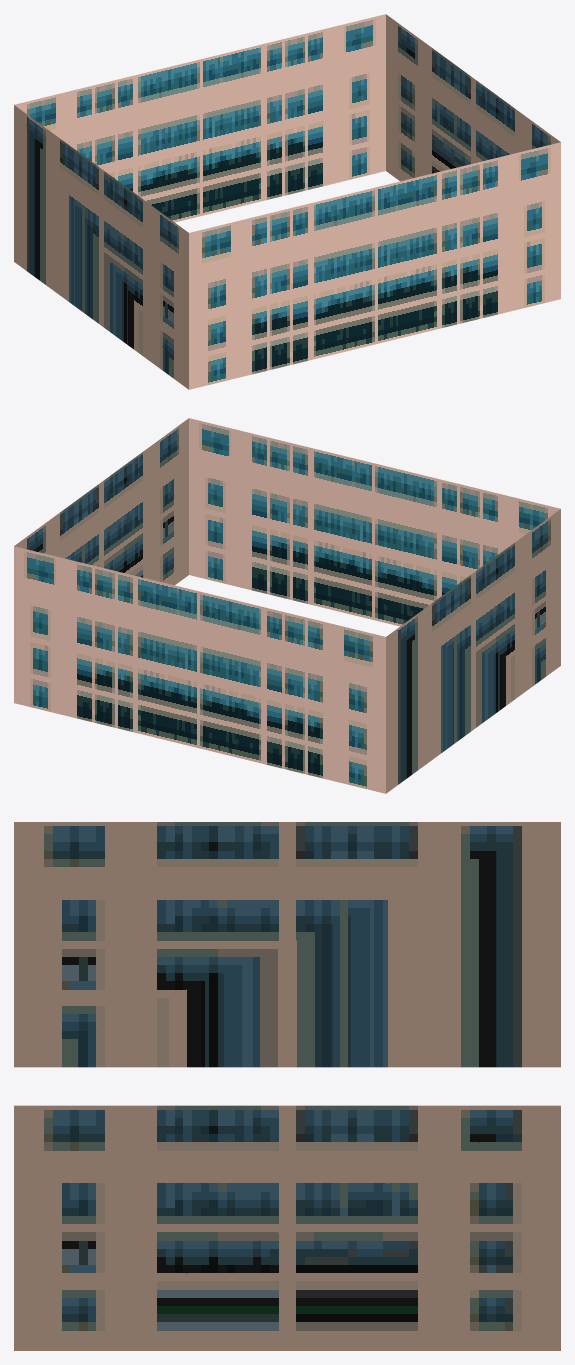
The picture shows the model from 3 angles, top to bottom: view 1: azimuth 30°, elevation 25°; view 2: azimuth 150°, elevation 25°; view 3: azimuth 270°, elevation 25°; orthographic projection. The views are drawn at different scales.
Parts seen in each view (by area): view 1: obj-130; view 2: obj-130; view 3: obj-130.
Boxes of the visible parts, x1,y1,x2,y2 form: obj-130: (14, 14, 560, 389); obj-130: (14, 418, 560, 793); obj-130: (14, 822, 560, 1350).
Size of the model in its own units: 3.21 by 1.29 by 2.62.
1 material, 1 textured.
